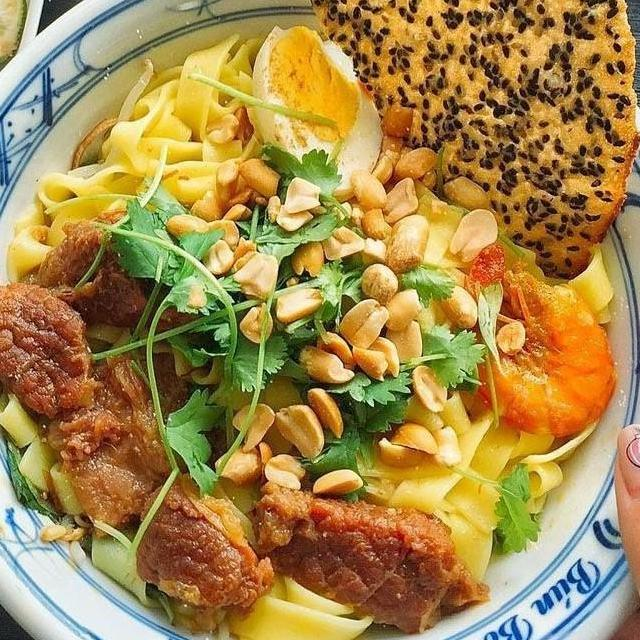banh da: (271, 0, 640, 287)
mi: (2, 26, 276, 290), (348, 384, 568, 586), (0, 390, 162, 605), (207, 569, 376, 640)
thit heo: (246, 474, 496, 638), (42, 348, 182, 544), (31, 200, 222, 340), (132, 477, 280, 638), (0, 262, 100, 420)
tom: (452, 252, 622, 439)
trung: (245, 20, 384, 204)
